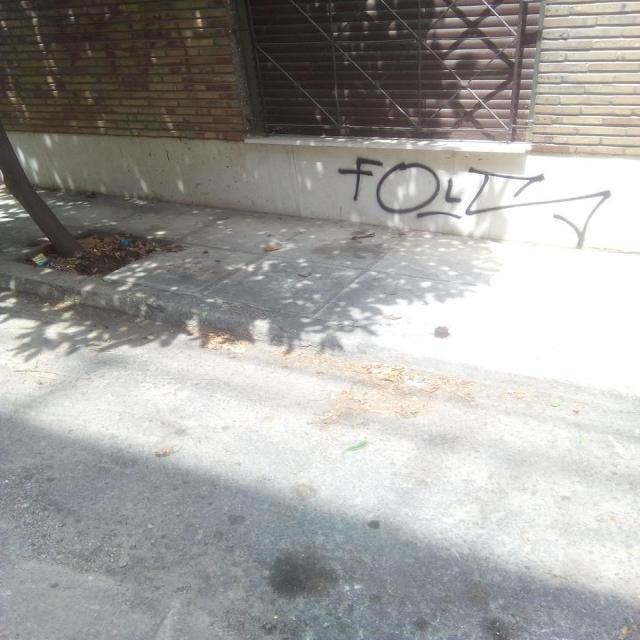nonspitting: (338, 156, 612, 249)
